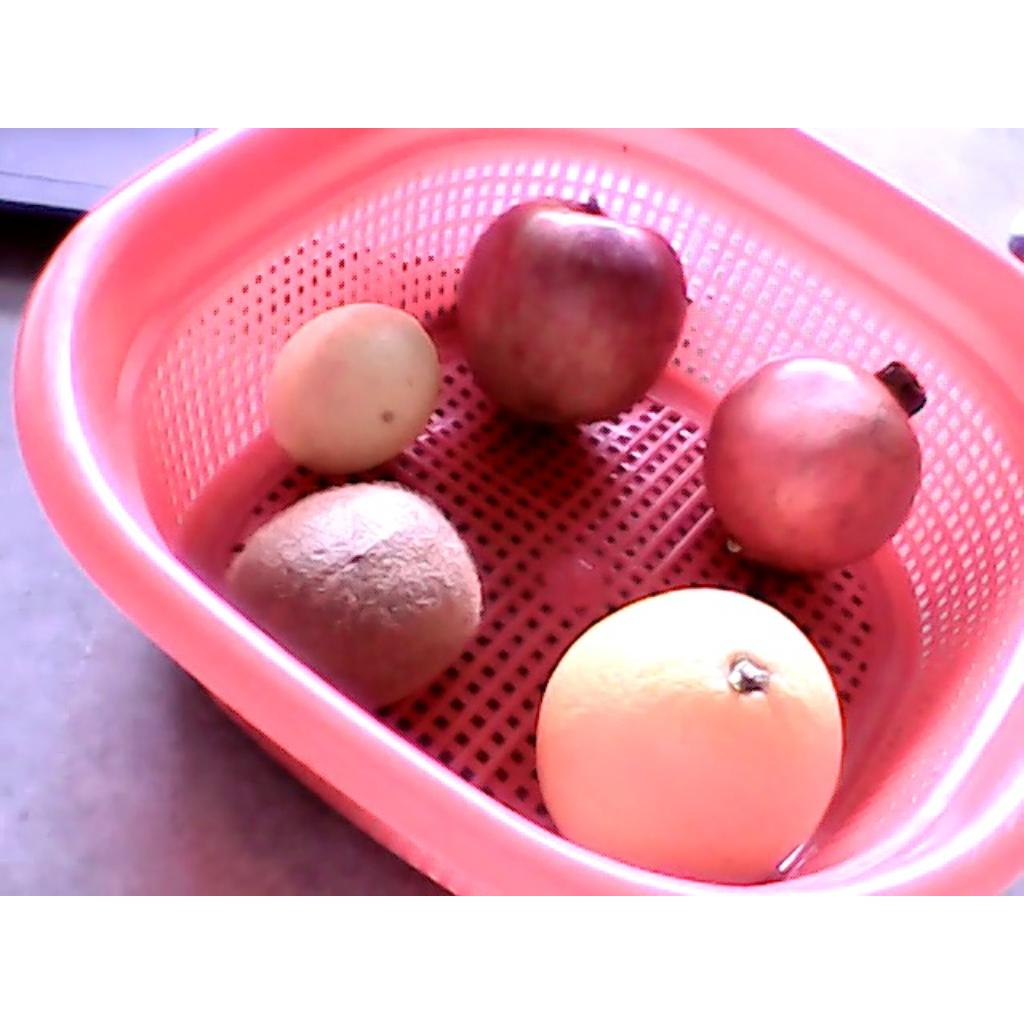apple: (456, 196, 687, 425)
kiwi: (222, 484, 480, 712)
lemon: (267, 302, 441, 475)
orange: (534, 587, 843, 886)
pomegranate: (701, 357, 930, 576)
